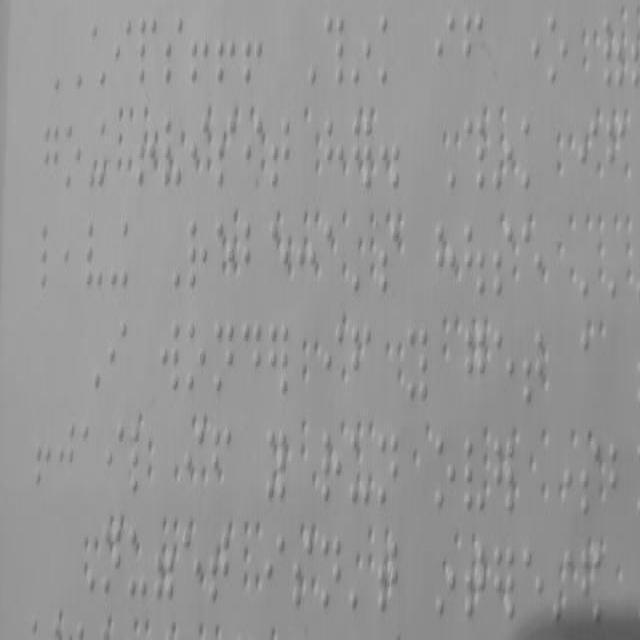braiile: (374, 532, 402, 624), (460, 430, 488, 521), (459, 530, 486, 621), (520, 539, 546, 630), (406, 317, 430, 412), (580, 320, 604, 413), (292, 528, 316, 619), (492, 326, 516, 416), (546, 9, 570, 98), (580, 431, 604, 520), (376, 217, 402, 299), (320, 418, 344, 506), (99, 516, 123, 604), (240, 210, 264, 296), (492, 218, 516, 302), (464, 324, 486, 414), (521, 324, 543, 414), (462, 6, 486, 88), (188, 112, 212, 194), (185, 212, 209, 294), (267, 212, 291, 294), (376, 426, 400, 508), (521, 102, 543, 191), (210, 420, 233, 504), (264, 429, 288, 509), (270, 110, 292, 197), (214, 208, 236, 294), (324, 210, 346, 296), (322, 526, 343, 616), (180, 528, 203, 610), (208, 524, 230, 609), (162, 13, 185, 94), (434, 216, 456, 300), (378, 8, 400, 90), (324, 112, 346, 194), (521, 219, 543, 301), (433, 432, 455, 514), (137, 13, 159, 94), (578, 115, 600, 196), (184, 426, 206, 506), (350, 426, 370, 512), (217, 114, 239, 192), (84, 212, 106, 290), (158, 319, 180, 397), (128, 521, 150, 599), (434, 11, 456, 87), (104, 420, 126, 496), (264, 526, 284, 608), (64, 116, 85, 194), (243, 114, 264, 192), (186, 316, 207, 394), (351, 321, 372, 399), (163, 111, 183, 191), (38, 214, 58, 294), (106, 318, 128, 389), (40, 116, 60, 194), (213, 316, 233, 394), (130, 421, 150, 499), (322, 322, 343, 394), (242, 318, 262, 393), (81, 418, 99, 493), (57, 420, 75, 491), (114, 15, 132, 84)
